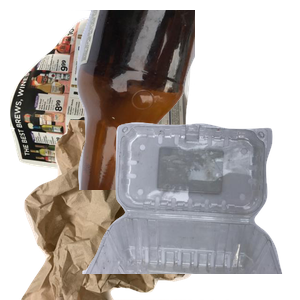glass: (60, 10, 300, 190)
paper: (10, 15, 196, 195)
plastic: (80, 120, 300, 300)
trash: (19, 120, 249, 300)
